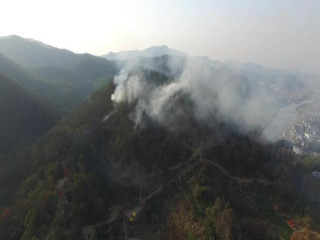smoke: (103, 39, 282, 138)
